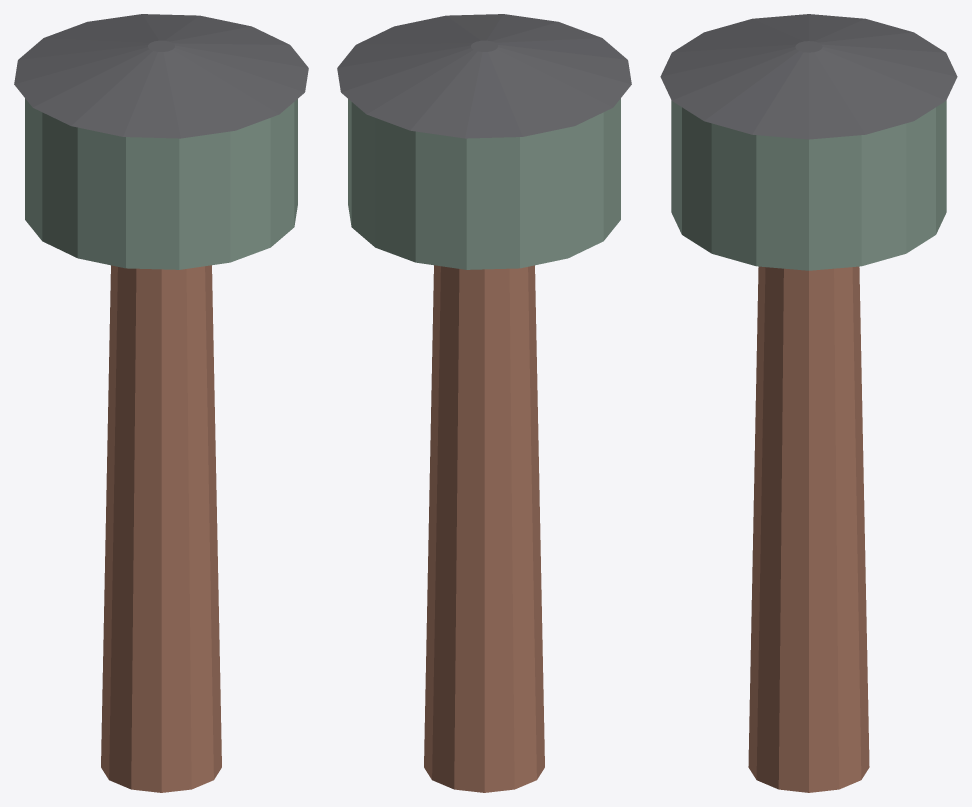
Rendered from water_tower.glb.
3 renders of one model, left to right at view 1: azimuth 30°, elevation 25°; view 2: azimuth 150°, elevation 25°; view 3: azimuth 270°, elevation 25°, orthographic.
Visible parts, largest first — view 1: water_tower; view 2: water_tower; view 3: water_tower.
Part boxes in pixels (bbox=[...]): water_tower: bbox=[14, 14, 308, 792]; water_tower: bbox=[337, 14, 631, 792]; water_tower: bbox=[660, 14, 957, 792].
Bounding box in the file's own units: 10.8 × 28.9 × 10.8.
